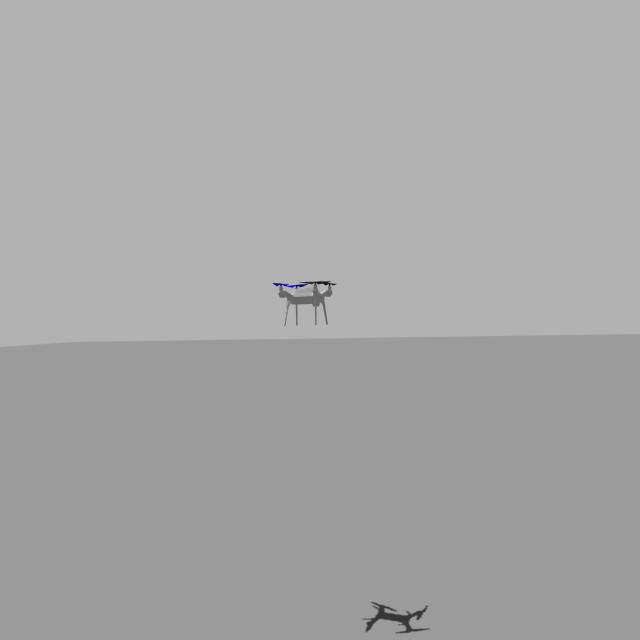Drone: (270, 268, 342, 332)
